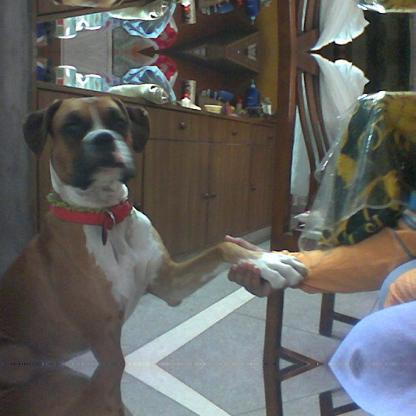Dog: (0, 96, 310, 362)
